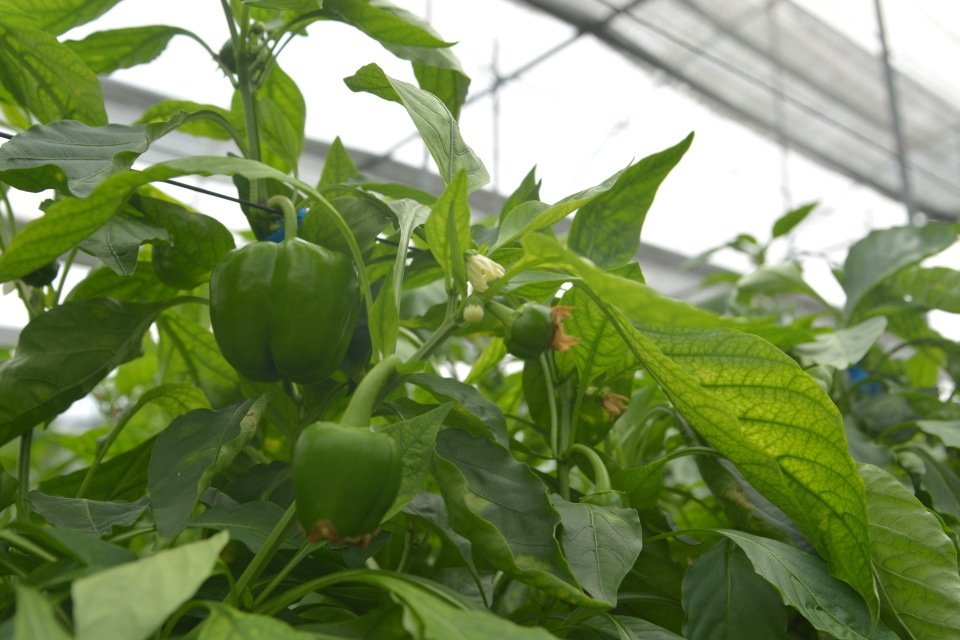flower: (463, 250, 506, 293)
fruit: (206, 234, 364, 388)
immature: (289, 417, 405, 549), (501, 297, 581, 362)
